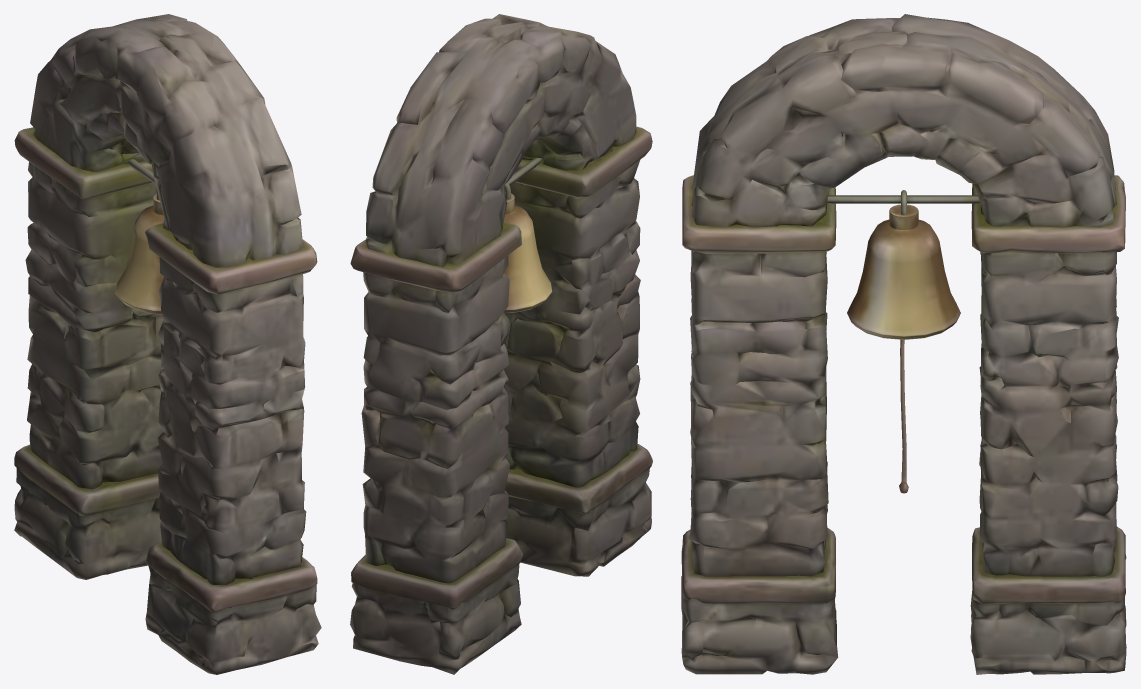
Rendered from SK_BellTower_5e03b7.glb.
3 views of the same model, side by side, from view 1: azimuth 30°, elevation 25°; view 2: azimuth 150°, elevation 25°; view 3: azimuth 270°, elevation 25° (orthographic). The views are drawn at different scales.
Size of the model in its own units: 0.5878 by 2.77 by 1.8.
1 material, 1 textured.
